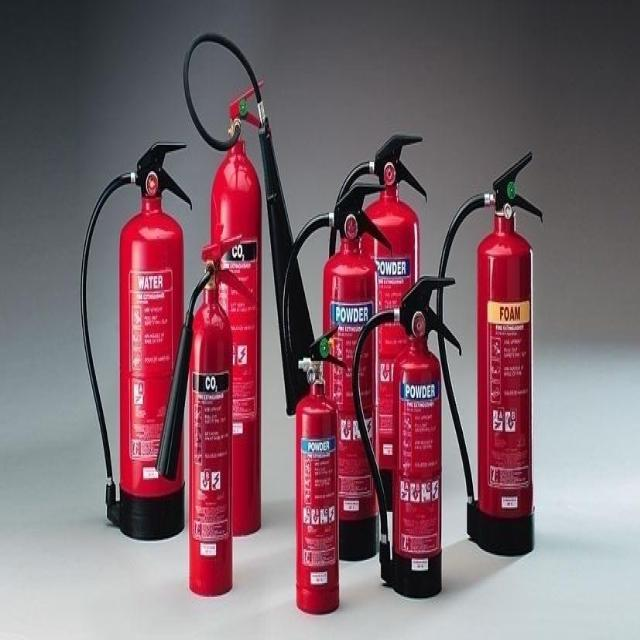fire_extinguisher: (177, 15, 321, 546), (75, 125, 196, 552), (434, 145, 547, 560), (277, 174, 395, 566), (326, 125, 429, 515), (348, 264, 463, 608), (150, 225, 253, 603), (289, 316, 349, 619)
